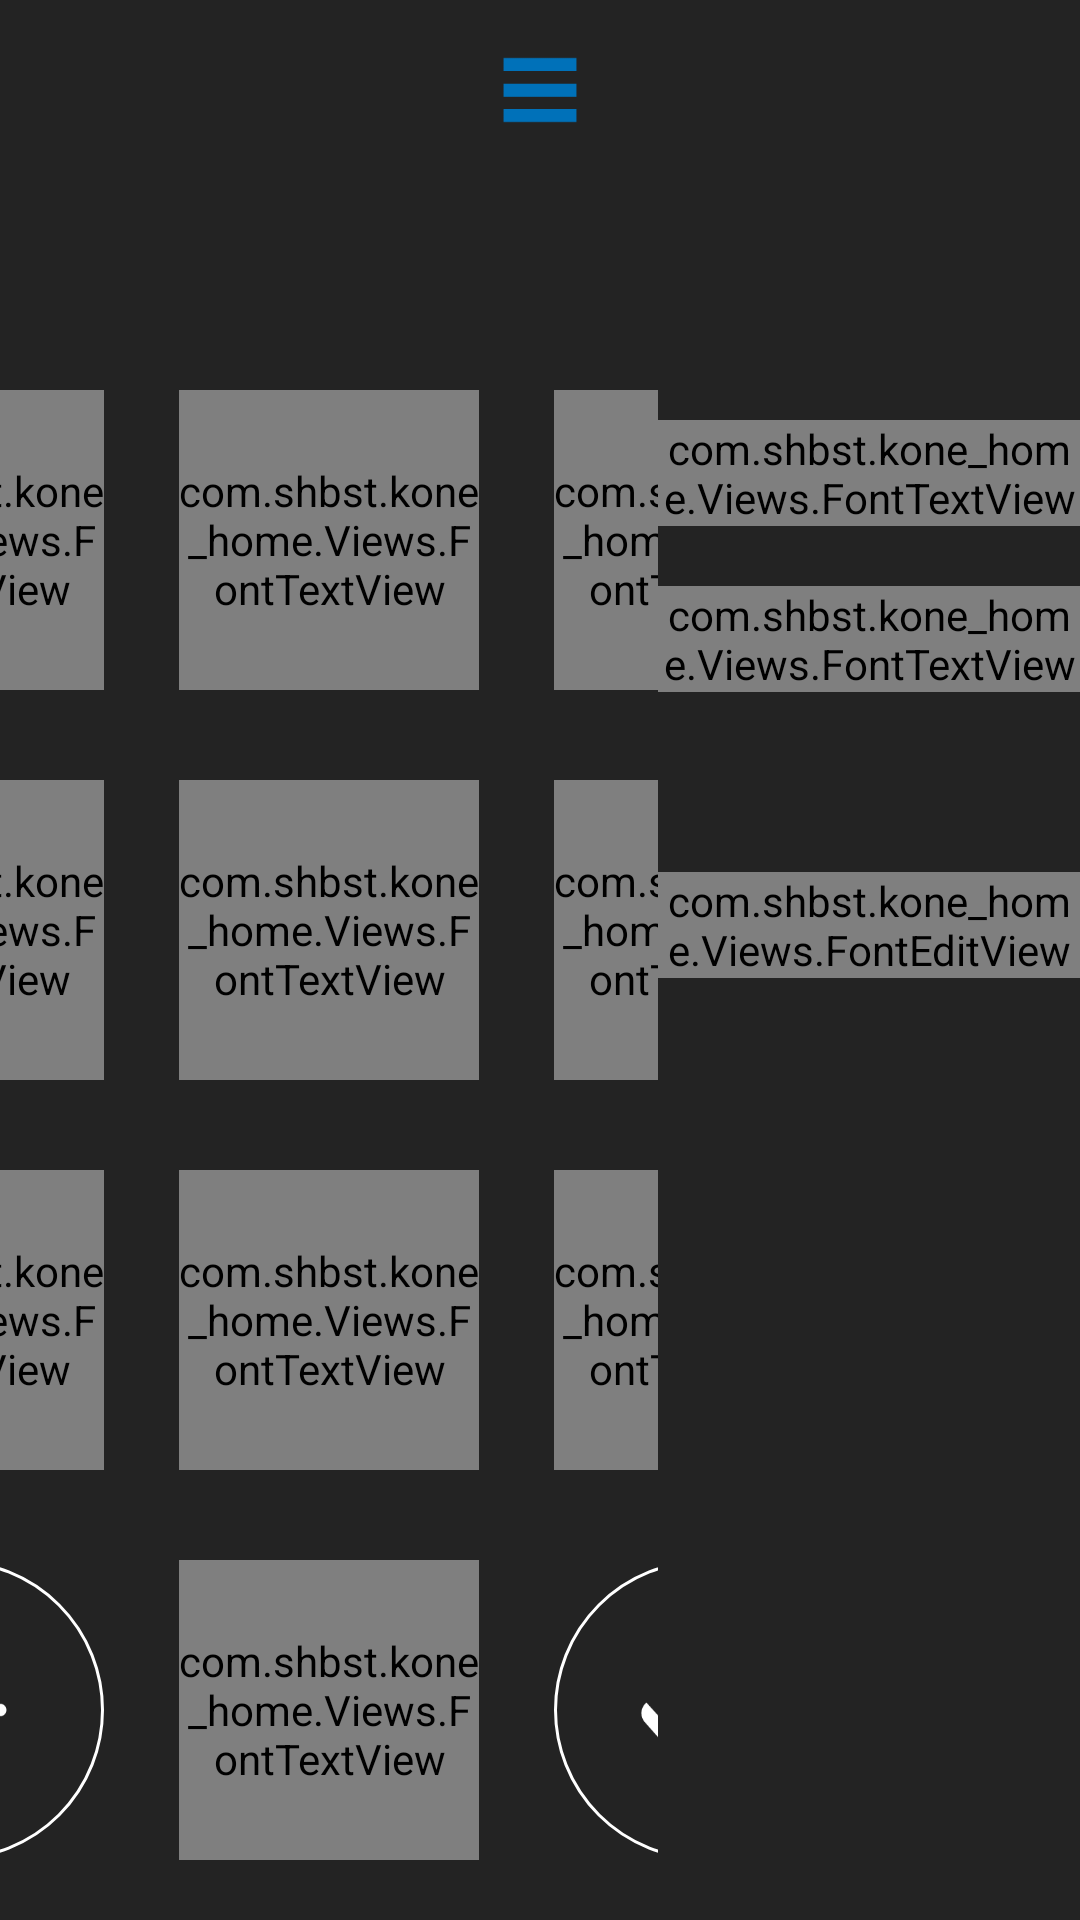

Icon bounding boxes for this 1080 x 1920 phone screenshot, format (x1, y1, x2, y2):
menu: (503, 58, 577, 122)
